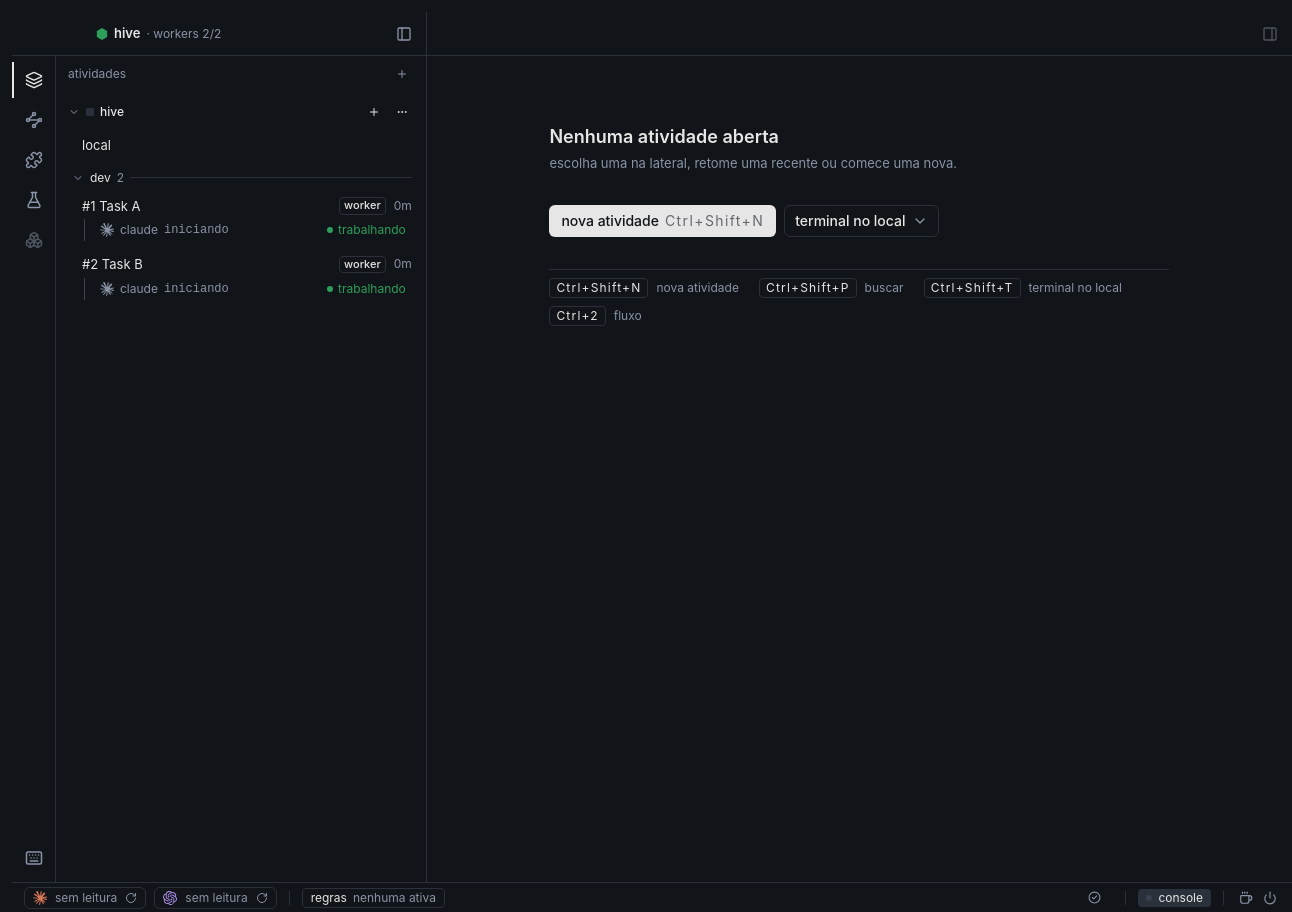
the detail docks in the frame's right group, between the header and the workers bar, which spans the whole width; the header's detalhes icon closes that panel a
Click the button named "fluxo" at (34,120), box 12,102 -> 56,138
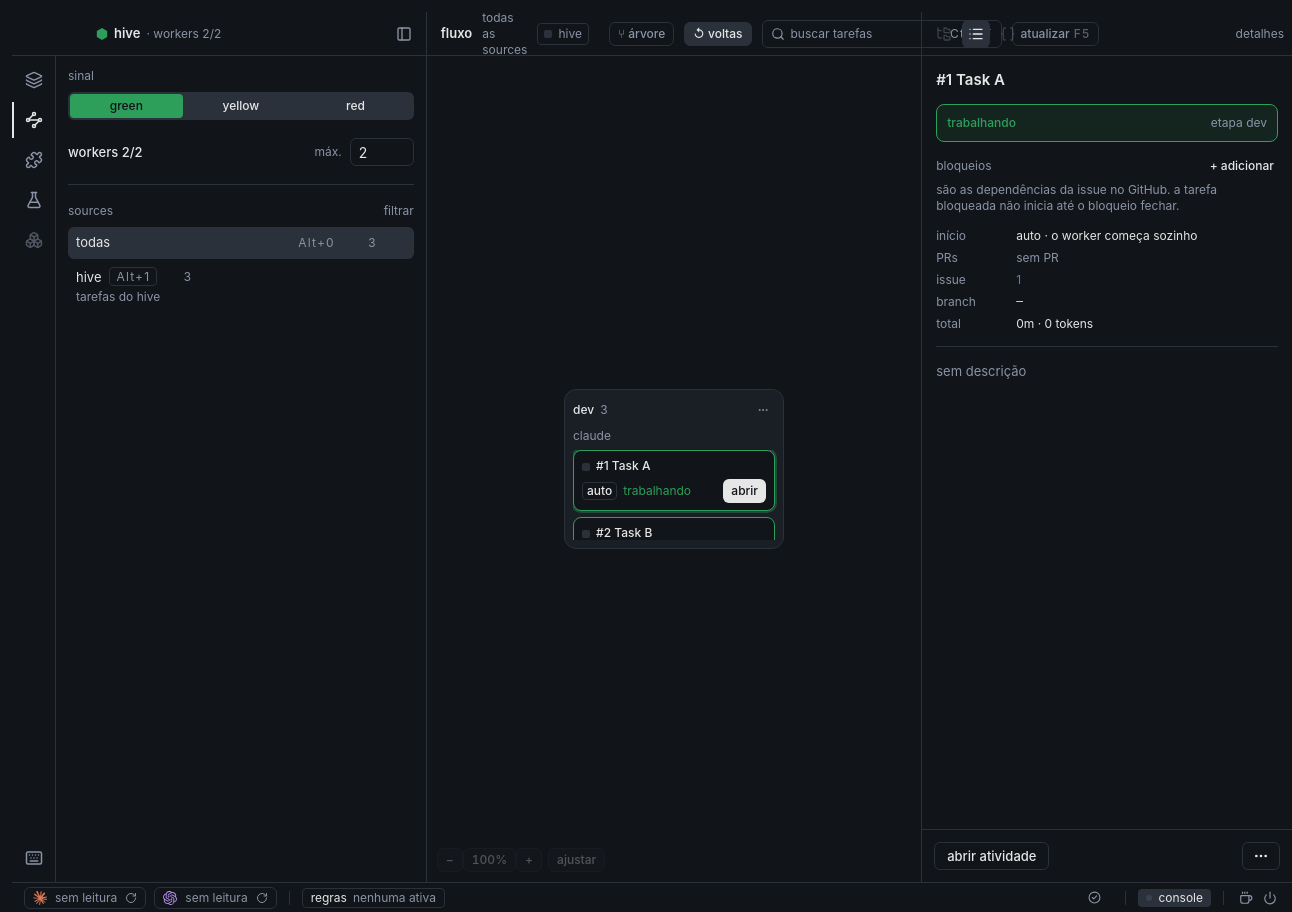
Click the button named "detalhes" at (976,34), box 962,20 -> 990,48
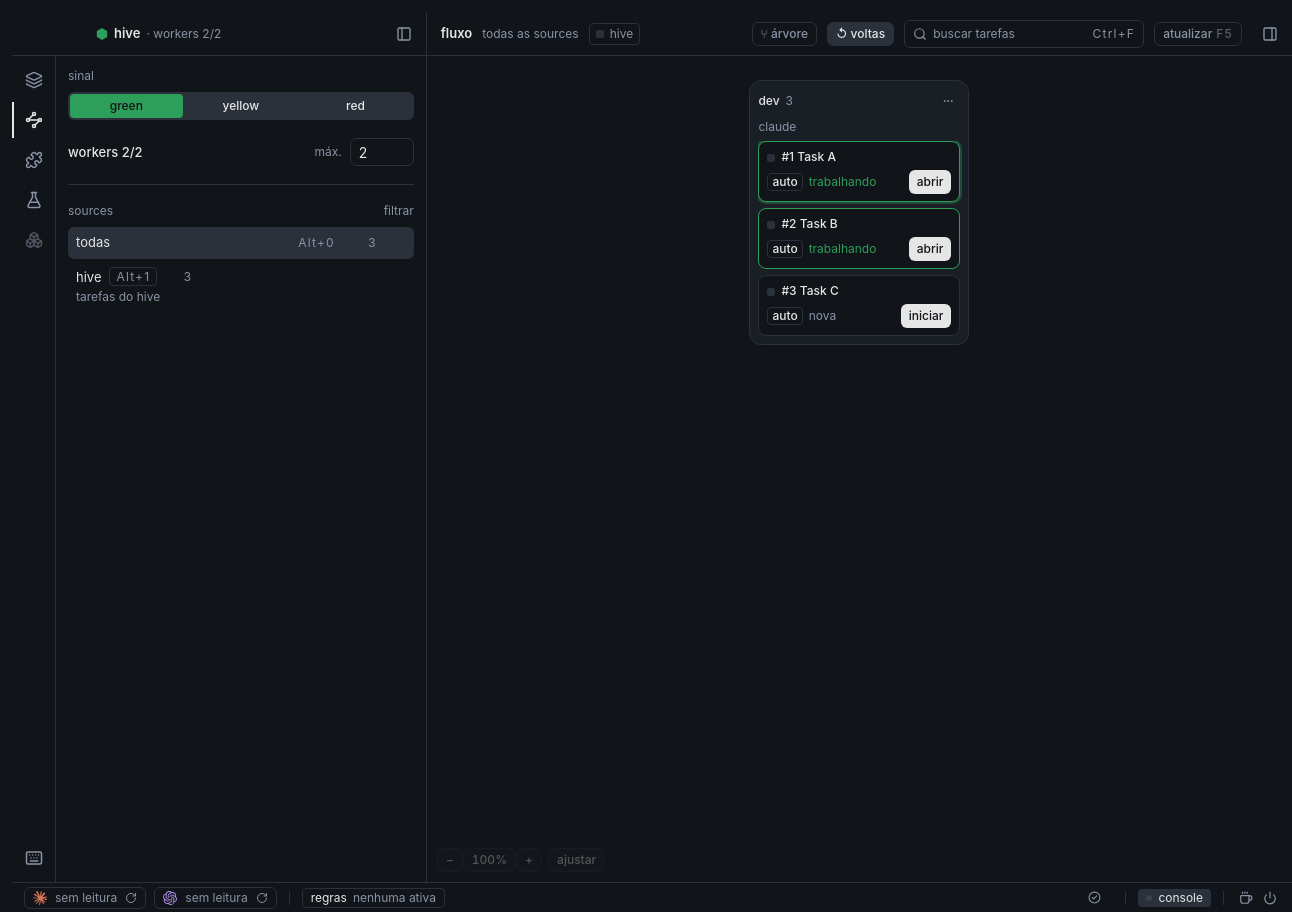
Now the text "detalhe" is gone
Press B
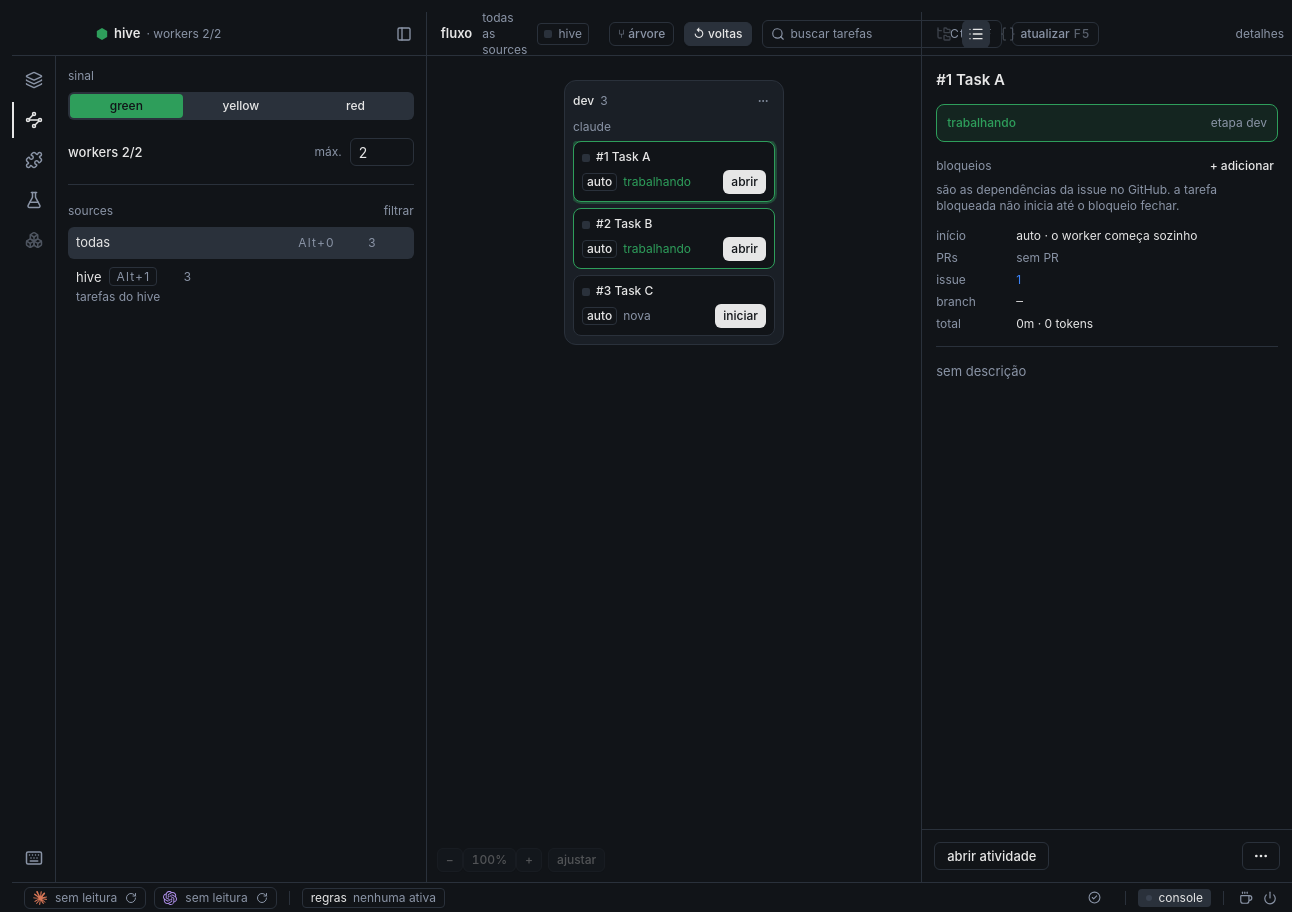
Now the heading "#1 Task A" is shown, box 936,70 -> 1005,89
